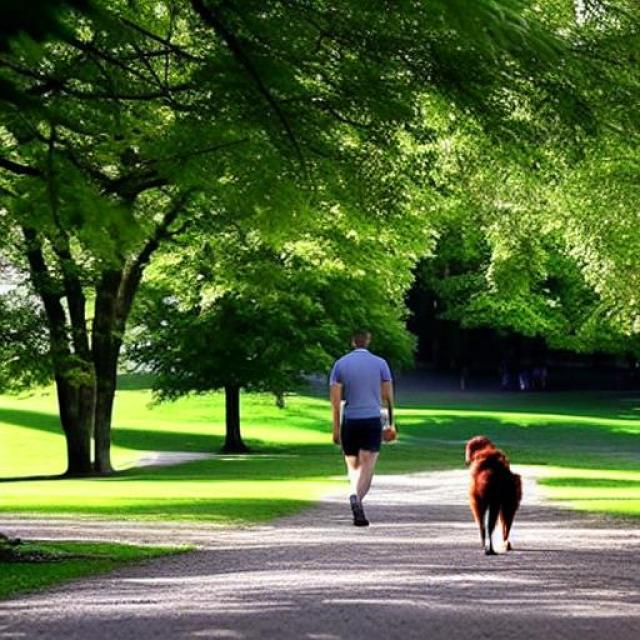Unleashed_Dog: (341, 421, 523, 557)
